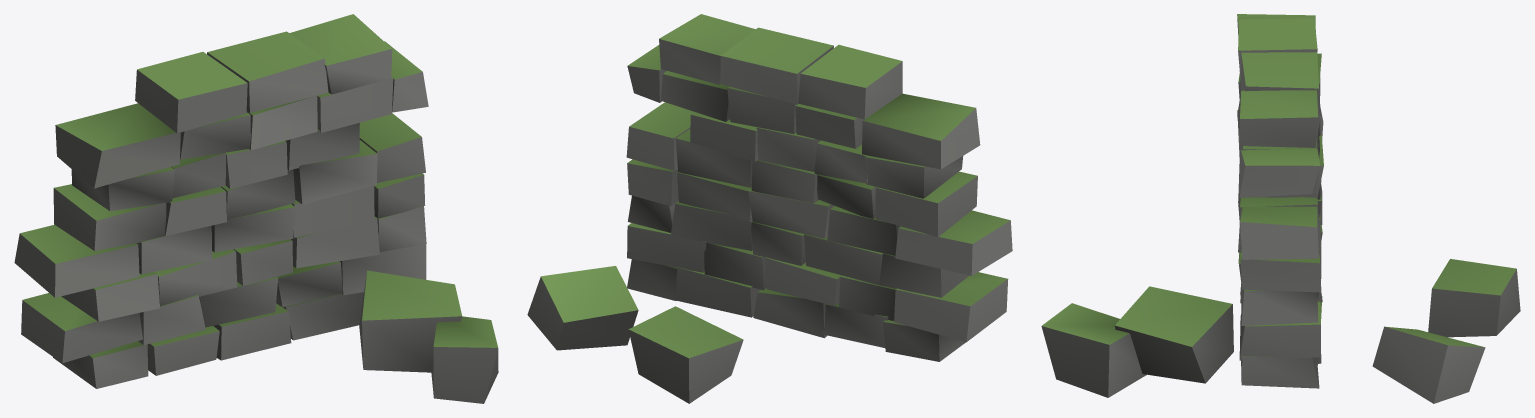
Rendered from obj_ruina_3.glb.
The picture shows the model from 3 angles, left to right: view 1: azimuth 30°, elevation 25°; view 2: azimuth 150°, elevation 25°; view 3: azimuth 270°, elevation 25°; orthographic projection. The views are drawn at different scales.
Parts seen in each view (by area): view 1: propforge-cuartos-ruina; view 2: propforge-cuartos-ruina; view 3: propforge-cuartos-ruina.
Part boxes in pixels (bbox=[...]): propforge-cuartos-ruina: bbox=[14, 14, 498, 403]; propforge-cuartos-ruina: bbox=[527, 14, 1012, 403]; propforge-cuartos-ruina: bbox=[1041, 14, 1520, 403].
Size of the model in its own units: 1.15 by 0.7527 by 1.23.
